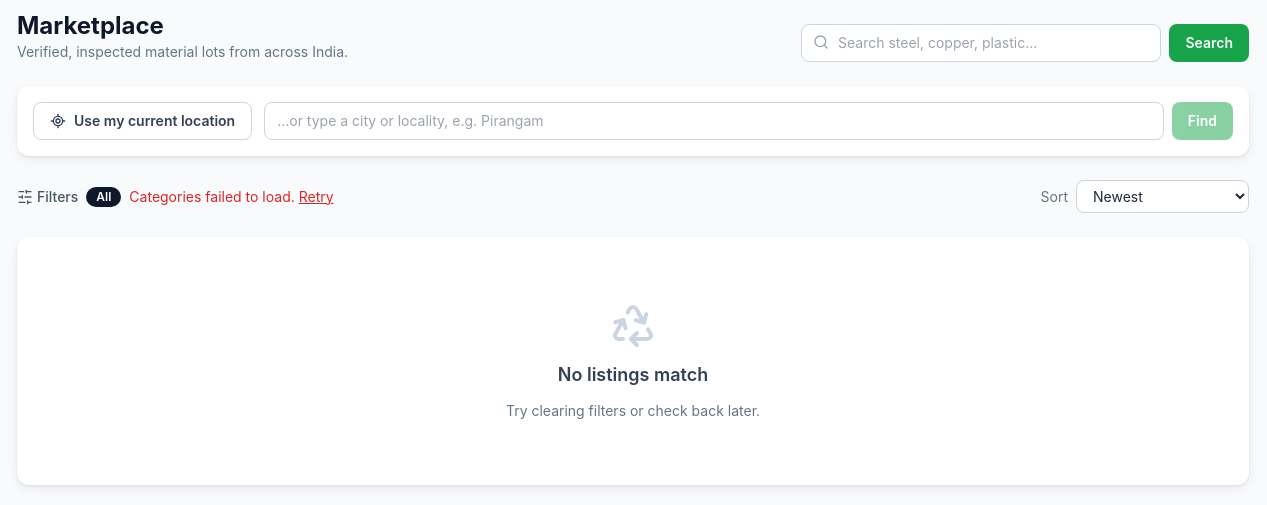
Test: Marketplace category filter › shows a retry-able error when the fetch fails, then recovers
This screenshot has width=1267, height=505.
Expected: the text "Categories failed to load. Retry" is shown, [129,186,334,206]
Click the button "Retry": click(316, 196) [299,186,334,206]
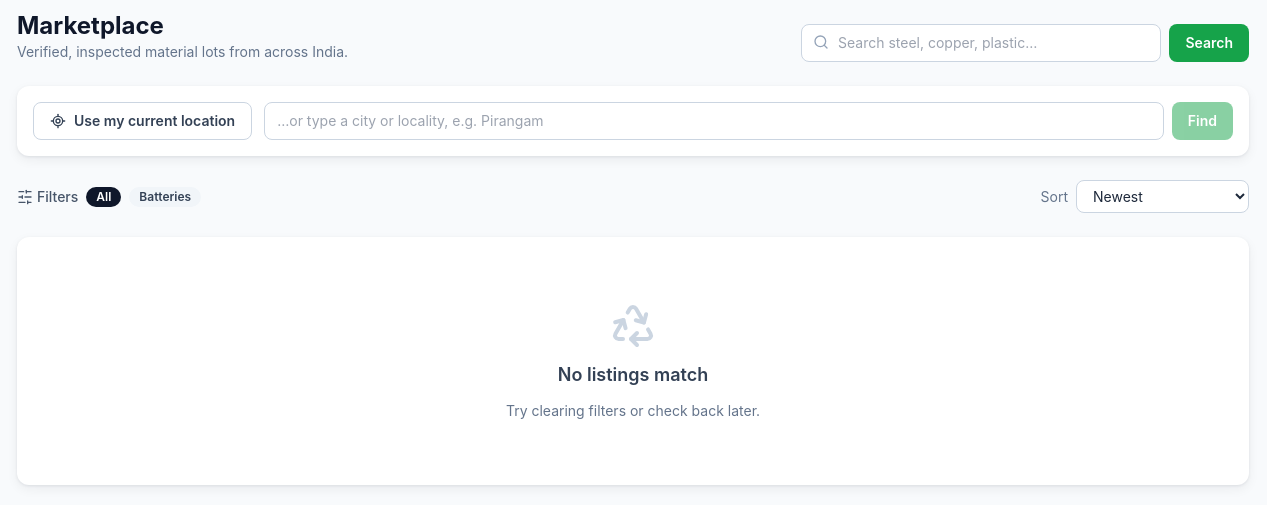
Now the button "Batteries" is shown, box [129,186,201,206]
